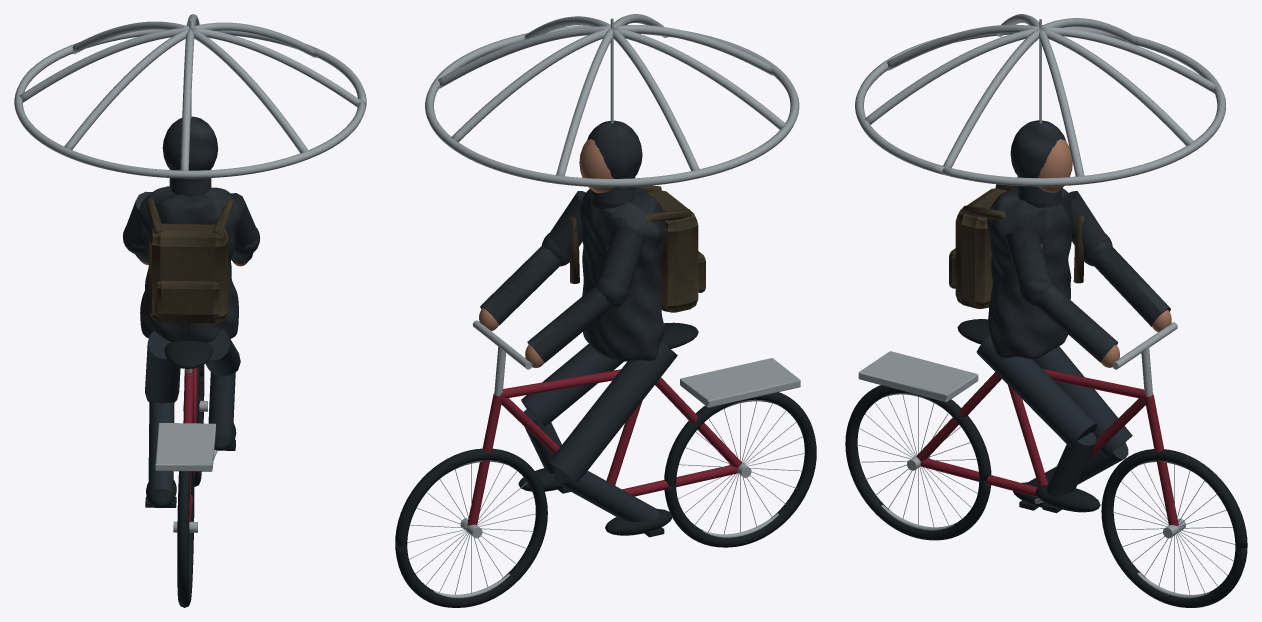
The model's file is tokyo-cyclist.glb.
3 renders of one model, left to right at view 1: azimuth 30°, elevation 25°; view 2: azimuth 150°, elevation 25°; view 3: azimuth 270°, elevation 25°, orthographic. The views are drawn at different scales.
Visible parts, largest first — view 1: tokyo-cyclist/Cyclist waterproof jacket, tokyo-cyclist/Umbrella wet perimeter, tokyo-cyclist/Cyclist backpack, tokyo-cyclist/Bicycle rear luggage rack, tokyo-cyclist/Cyclist backpack pocket, tokyo-cyclist/Pneumatic bicycle tyre, tokyo-cyclist/Cyclist hood, tokyo-cyclist/Trouser upper leg, tokyo-cyclist/Umbrella steel rib.005, tokyo-cyclist/Umbrella steel rib, tokyo-cyclist/Umbrella steel rib.004, tokyo-cyclist/Trouser lower leg.001 (+13 smaller); view 2: tokyo-cyclist/Cyclist waterproof jacket, tokyo-cyclist/Umbrella wet perimeter, tokyo-cyclist/Pneumatic bicycle tyre.001, tokyo-cyclist/Trouser upper leg, tokyo-cyclist/Pneumatic bicycle tyre, tokyo-cyclist/Cyclist backpack, tokyo-cyclist/Bicycle rear luggage rack, tokyo-cyclist/Trouser upper leg.001, tokyo-cyclist/Coat forearm sleeve, tokyo-cyclist/Trouser lower leg, tokyo-cyclist/Coat forearm sleeve.001, tokyo-cyclist/Cyclist hood (+23 smaller); view 3: tokyo-cyclist/Cyclist waterproof jacket, tokyo-cyclist/Umbrella wet perimeter, tokyo-cyclist/Pneumatic bicycle tyre.001, tokyo-cyclist/Pneumatic bicycle tyre, tokyo-cyclist/Trouser upper leg.001, tokyo-cyclist/Cyclist backpack, tokyo-cyclist/Bicycle rear luggage rack, tokyo-cyclist/Trouser upper leg, tokyo-cyclist/Coat forearm sleeve.001, tokyo-cyclist/Coat forearm sleeve, tokyo-cyclist/Cyclist hood, tokyo-cyclist/Coat upper sleeve.001 (+23 smaller).
Boxes of the visible parts, x1,y1,x2,y2 form: tokyo-cyclist/Cyclist waterproof jacket: (139, 186, 241, 342); tokyo-cyclist/Umbrella wet perimeter: (14, 25, 366, 178); tokyo-cyclist/Cyclist backpack: (148, 223, 228, 323); tokyo-cyclist/Bicycle rear luggage rack: (155, 423, 215, 471); tokyo-cyclist/Cyclist backpack pocket: (155, 280, 219, 317); tokyo-cyclist/Pneumatic bicycle tyre: (177, 471, 194, 607); tokyo-cyclist/Cyclist hood: (162, 116, 218, 170); tokyo-cyclist/Trouser upper leg: (145, 330, 180, 403); tokyo-cyclist/Umbrella steel rib.005: (64, 28, 189, 149); tokyo-cyclist/Umbrella steel rib: (192, 28, 361, 107); tokyo-cyclist/Umbrella steel rib.004: (19, 28, 188, 102); tokyo-cyclist/Trouser lower leg.001: (208, 372, 235, 435); tokyo-cyclist/Cyclist waterproof jacket: (580, 186, 664, 361); tokyo-cyclist/Umbrella wet perimeter: (425, 24, 799, 187); tokyo-cyclist/Pneumatic bicycle tyre.001: (395, 448, 547, 607); tokyo-cyclist/Trouser upper leg: (549, 341, 677, 482); tokyo-cyclist/Pneumatic bicycle tyre: (664, 392, 816, 547); tokyo-cyclist/Cyclist backpack: (647, 190, 698, 312); tokyo-cyclist/Bicycle rear luggage rack: (680, 358, 800, 407); tokyo-cyclist/Trouser upper leg.001: (521, 344, 623, 426); tokyo-cyclist/Coat forearm sleeve: (527, 286, 611, 362); tokyo-cyclist/Trouser lower leg: (554, 468, 658, 521); tokyo-cyclist/Coat forearm sleeve.001: (480, 245, 560, 325); tokyo-cyclist/Cyclist hood: (587, 120, 642, 178); tokyo-cyclist/Cyclist waterproof jacket: (987, 185, 1072, 359); tokyo-cyclist/Umbrella wet perimeter: (855, 25, 1225, 186); tokyo-cyclist/Pneumatic bicycle tyre.001: (1101, 449, 1247, 607); tokyo-cyclist/Pneumatic bicycle tyre: (845, 385, 991, 540); tokyo-cyclist/Trouser upper leg.001: (976, 335, 1097, 448); tokyo-cyclist/Cyclist backpack: (955, 188, 1007, 308); tokyo-cyclist/Bicycle rear luggage rack: (858, 351, 978, 402); tokyo-cyclist/Trouser upper leg: (1033, 346, 1132, 457); tokyo-cyclist/Coat forearm sleeve.001: (1036, 285, 1117, 362); tokyo-cyclist/Coat forearm sleeve: (1093, 246, 1170, 326); tokyo-cyclist/Cyclist hood: (1010, 120, 1066, 177); tokyo-cyclist/Coat upper sleeve.001: (1005, 226, 1050, 288).
Size of the model in its own units: 1.6 by 2.62 by 1.73.
Materials: 7 (2 with a texture image).
